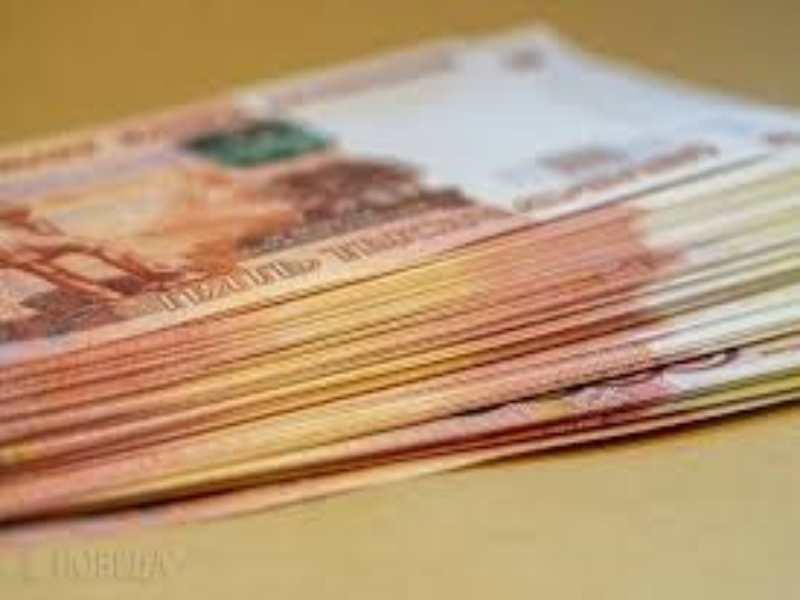cash: (1, 20, 800, 524)
